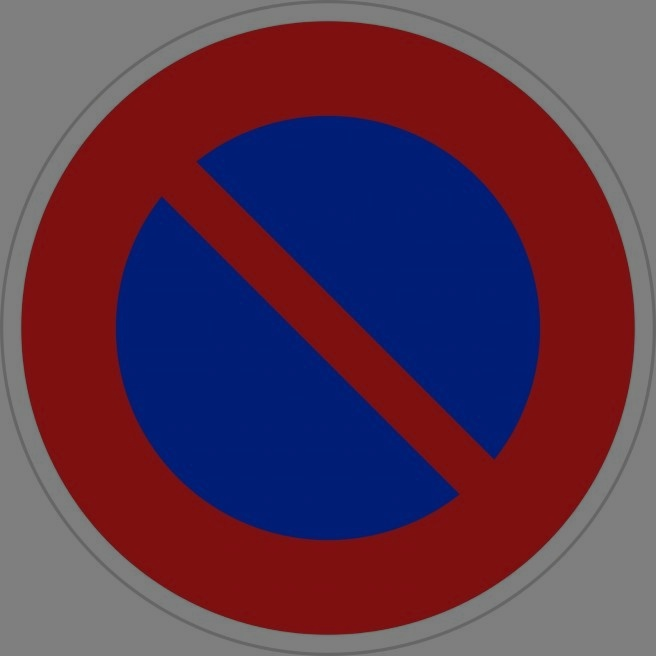Prohibition_sign: (7, 7, 653, 655)
